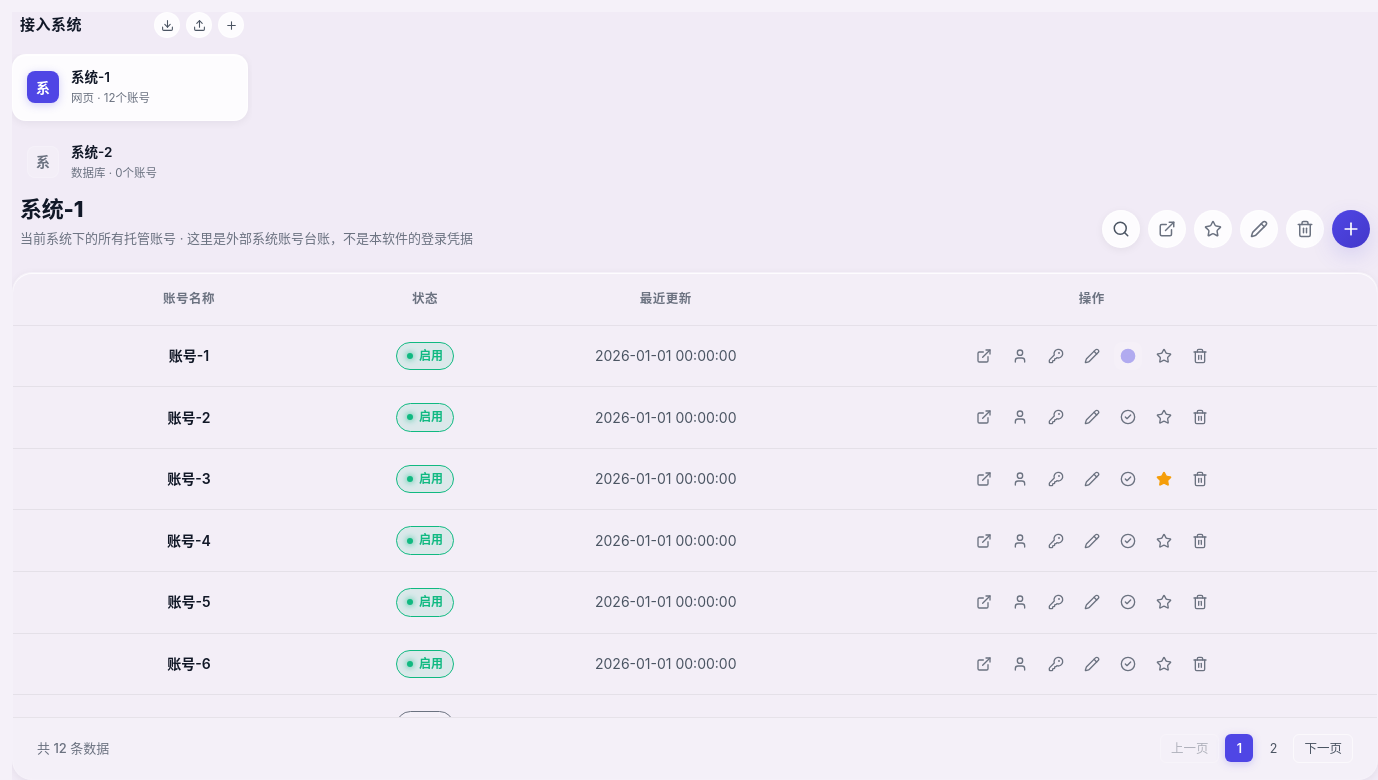
主从两栏的取数与选中 › 点左栏另一个系统：右栏换 id 取数，页码回到第 1 页
Expected: the text "账号-1" is shown, [169,345,209,367]
Click the button "下一页": {"x": 1323, "y": 748} [1294,734,1353,763]
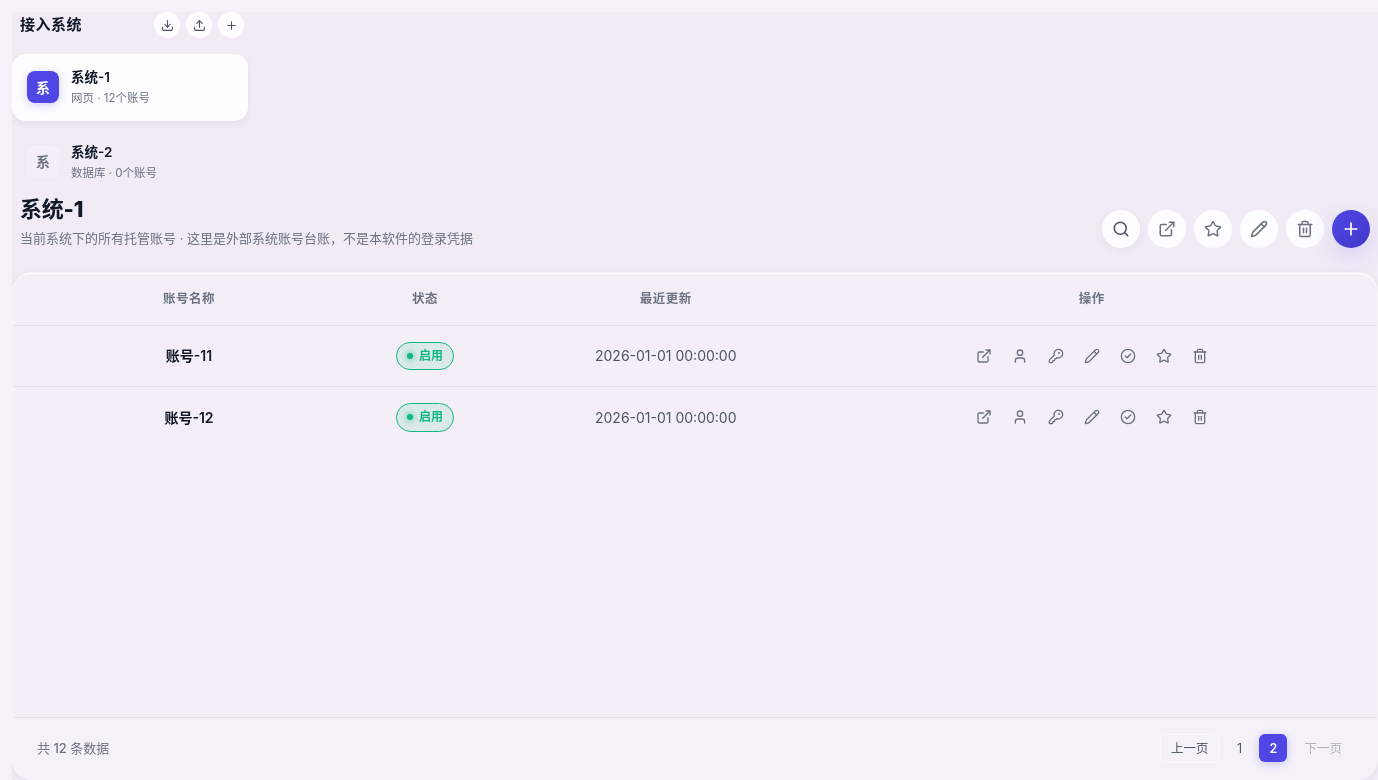
Now the text "账号-11" is shown, box [166,345,212,367]
Click the button "系 系统-2 数据库 · 0个账号": {"x": 130, "y": 162} [12,129,248,195]
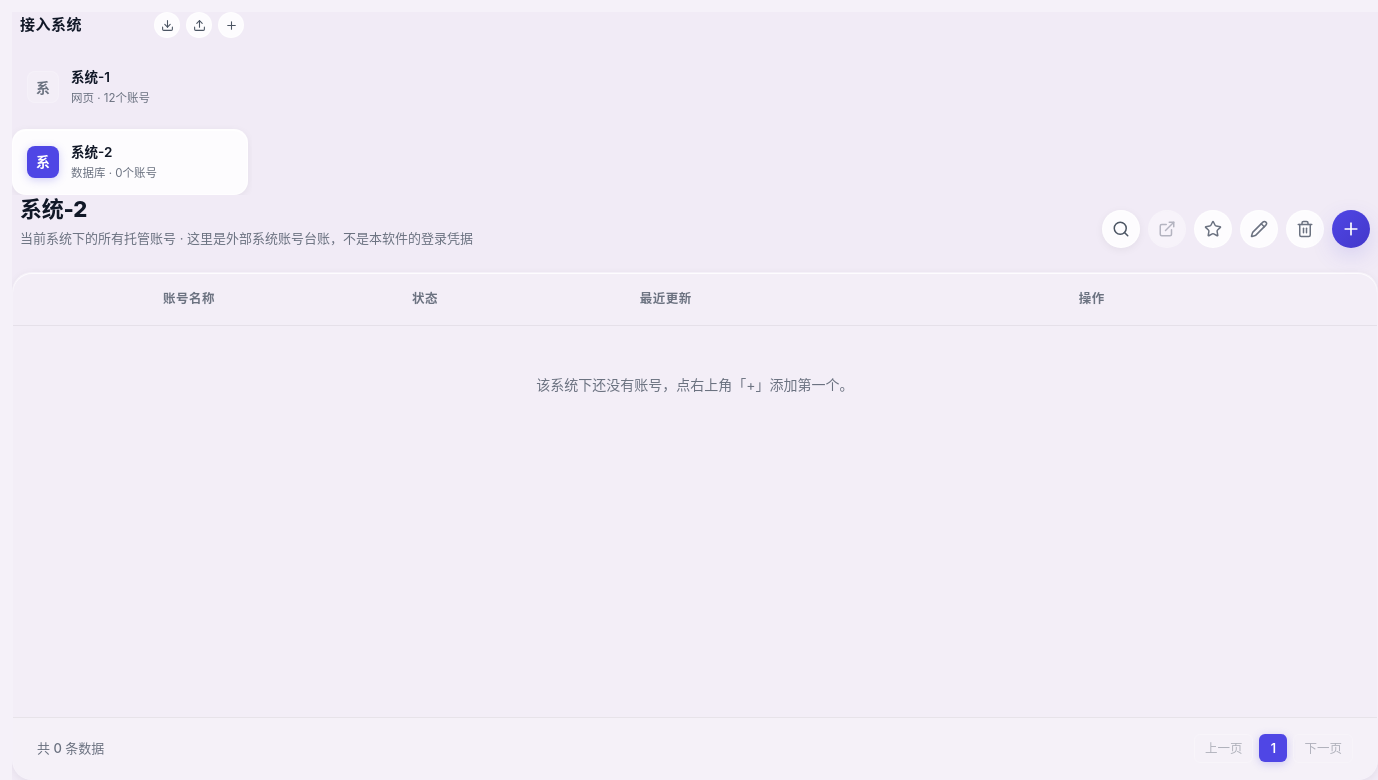
Now the text "该系统下还没有账号，点右上角「+」添加第一个。" is shown, box [536,376,854,393]
